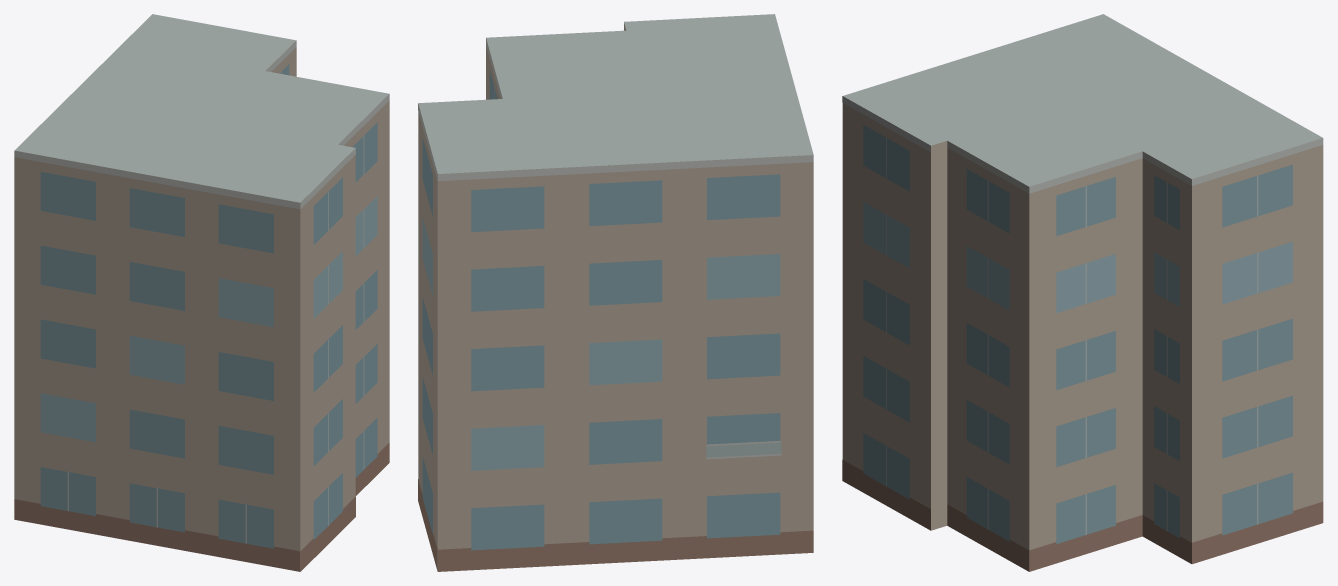
File: survey-upis-32884313.glb
The picture shows the model from 3 angles, left to right: view 1: azimuth 30°, elevation 25°; view 2: azimuth 150°, elevation 25°; view 3: azimuth 270°, elevation 25°; orthographic projection. The views are drawn at different scales.
Parts seen in each view (by area): view 1: survey-upis-32884313.tmp; view 2: survey-upis-32884313.tmp; view 3: survey-upis-32884313.tmp.
Part boxes in pixels (x1,y1,x2,y2): survey-upis-32884313.tmp: (14,14,389,571); survey-upis-32884313.tmp: (418,14,813,571); survey-upis-32884313.tmp: (842,14,1323,571).
Bounding box in the file's own units: 13.2 × 13.7 × 15.51.
